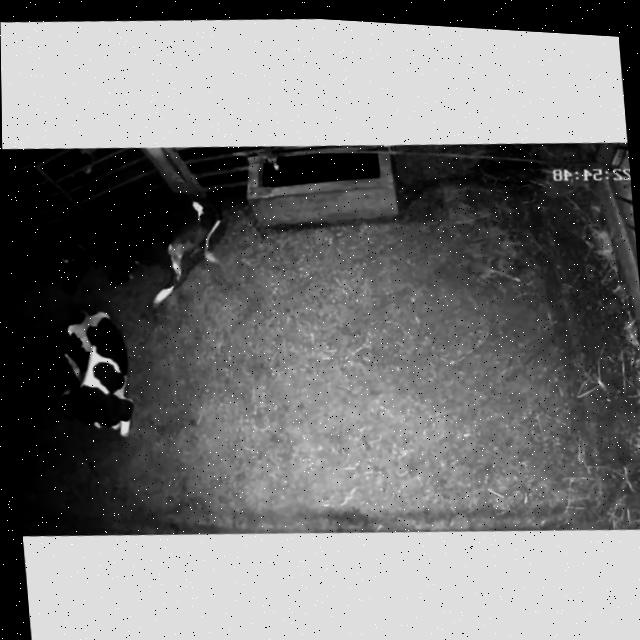lay: (41, 170, 244, 323), (44, 296, 151, 461)
